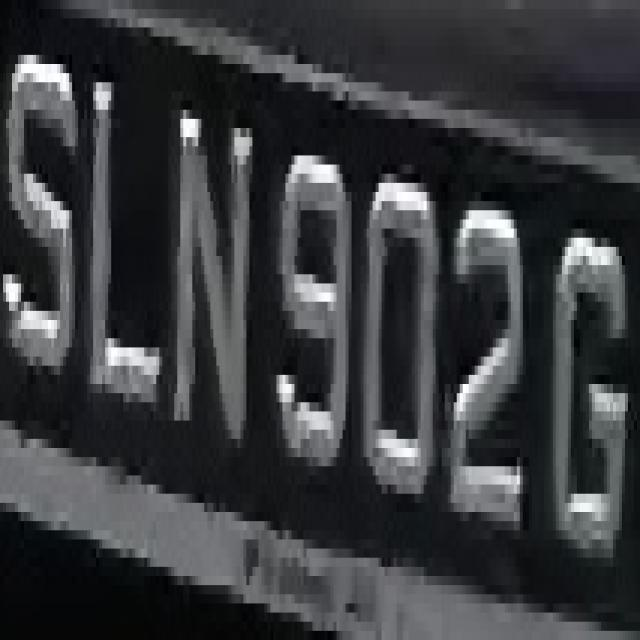0: (342, 119, 453, 494)
2: (460, 164, 535, 548)
9: (274, 119, 348, 503)
G: (544, 183, 637, 567)
L: (78, 37, 168, 484)
N: (172, 82, 258, 485)
S: (3, 9, 78, 393)
